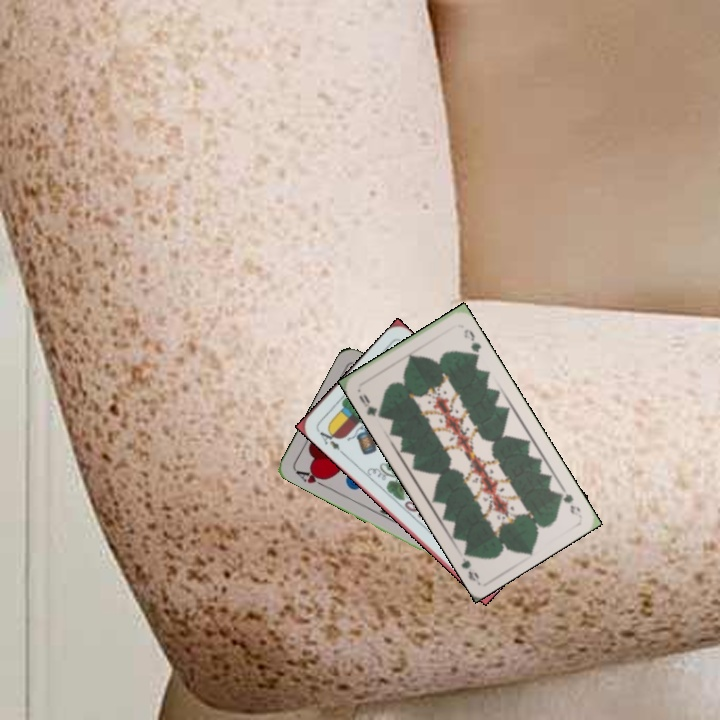EA: (313, 423, 346, 457)
G9: (554, 482, 583, 519), (355, 389, 384, 420)
HA: (291, 466, 330, 491)
